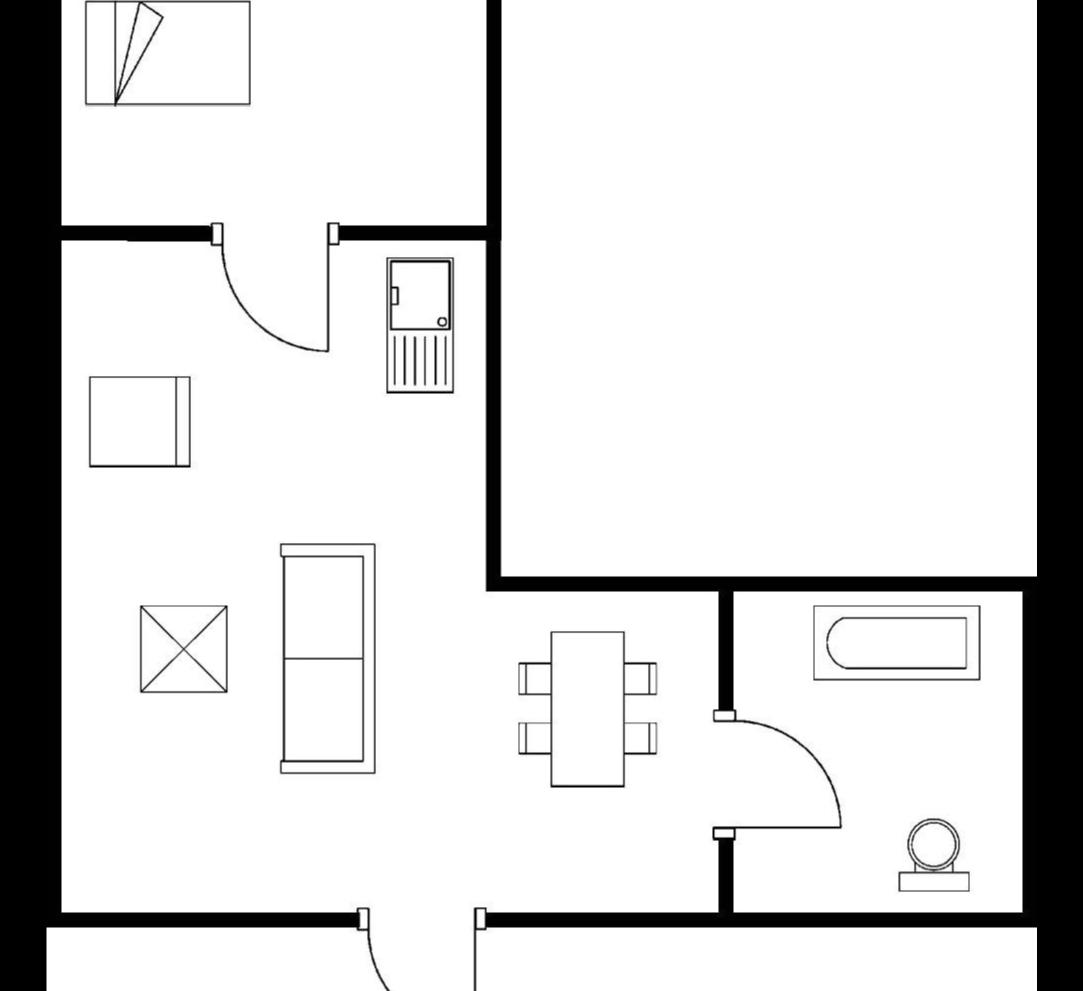bed: (80, 0, 256, 111)
dining_table: (509, 623, 663, 793)
sink: (378, 253, 460, 400)
sofa: (276, 540, 380, 780)
toilet: (890, 815, 976, 897)
tub: (806, 599, 988, 686)
